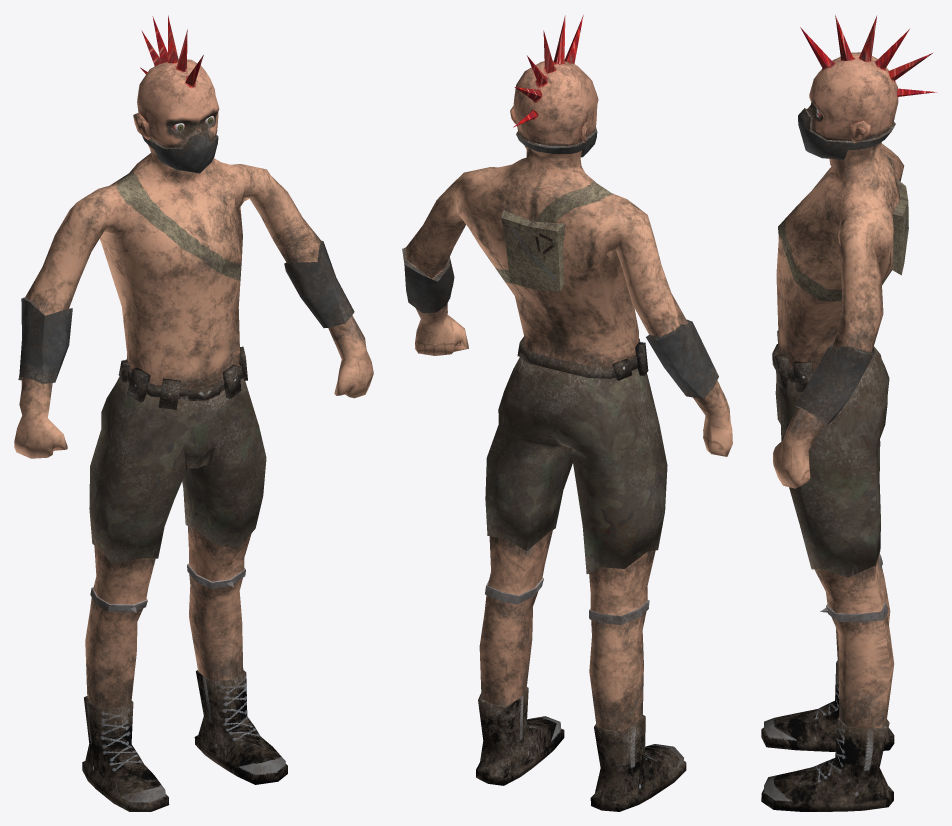
Rendered from Anim_idle_npc2.0050.obj.
3 renders of one model, left to right at view 1: azimuth 30°, elevation 25°; view 2: azimuth 150°, elevation 25°; view 3: azimuth 270°, elevation 25°, orthographic. The views are drawn at different scales.
Visible parts, largest first — view 1: polySurface1; view 2: polySurface1; view 3: polySurface1.
Boxes of the visible parts, bbox=[...] form: polySurface1: bbox=[14, 15, 373, 811]; polySurface1: bbox=[402, 15, 732, 811]; polySurface1: bbox=[761, 15, 937, 811].
Size of the model in its own units: 4.78 by 10.17 by 2.13.
